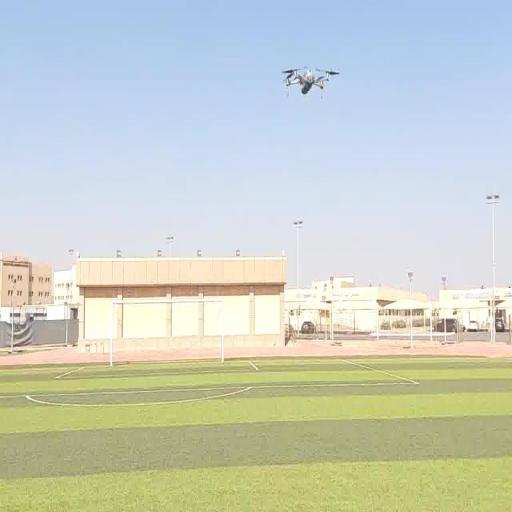drone: (278, 63, 342, 104)
